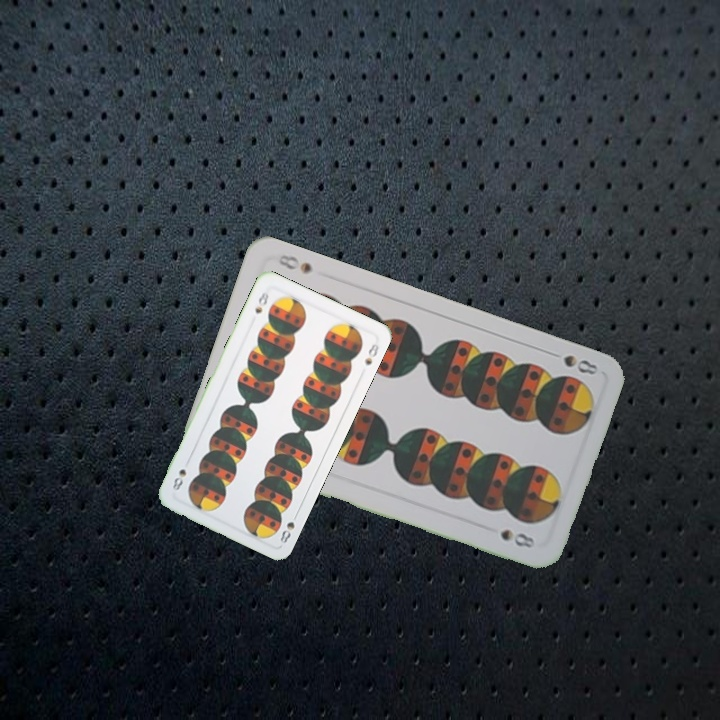S8: (544, 347, 601, 378), (276, 508, 301, 546), (251, 288, 271, 316)
